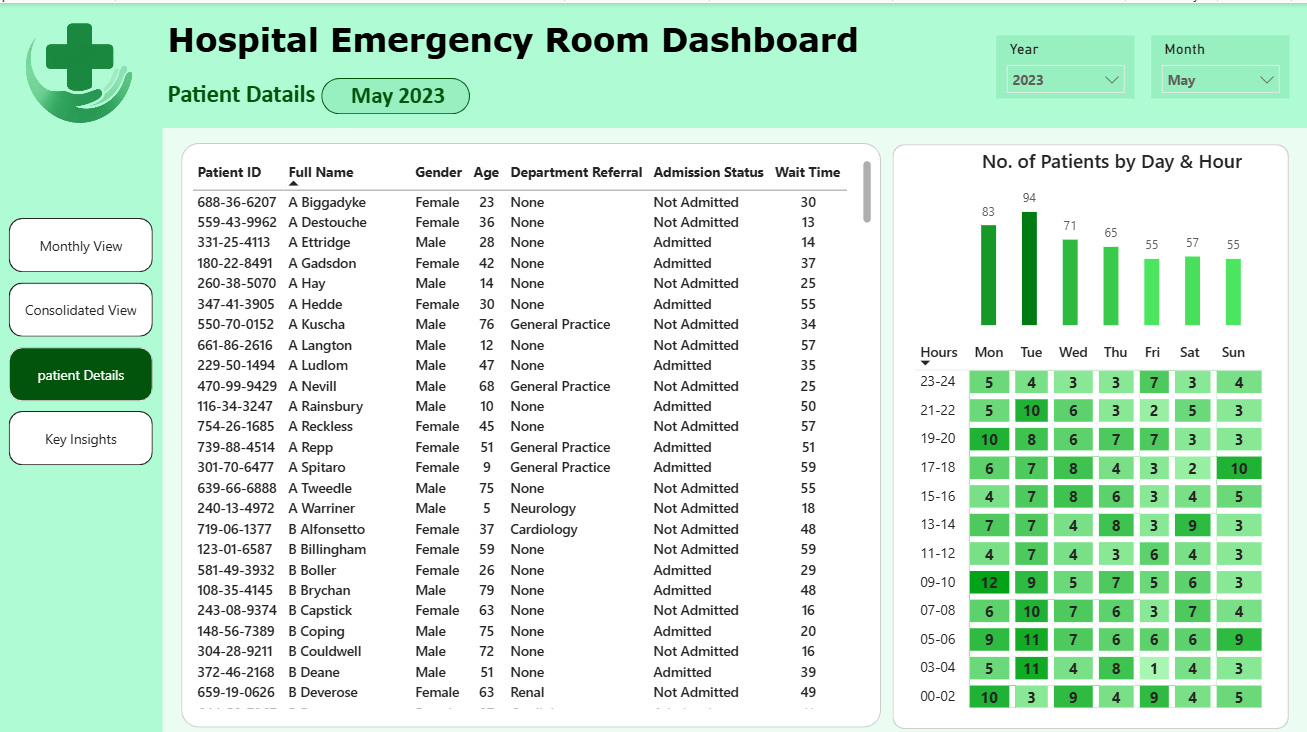

The page's visual inventory and layout, read from the dashboard file:
{"tool":"powerbi","page":{"name":"patient Details","canvas":[1280,720],"ordinal":2},"visuals":[{"type":"shape","box":[0,0,159,720.2],"z":0},{"type":"shape","box":[176.9,137.2,684.6,571.8],"z":0,"group":"g1"},{"type":"shape","box":[0,0,1280.3,122.3],"z":1000},{"type":"textbox","box":[159,11,783.8,62.4],"z":2000},{"type":"slicer","fields":{"Values":["Date Table.Year"]},"box":[975,31.3,135.6,61.3],"z":3000},{"type":"slicer","fields":{"Values":["Date Table.Month"]},"box":[1126.2,31.3,135.6,61.3],"z":4000},{"type":"textbox","box":[159,68.5,377.9,48.9],"z":5000},{"type":"shape","box":[314.3,73.4,145.5,35.5],"z":6000},{"type":"cardVisual","fields":{"Data":["Min(Date Table.month & year)"]},"box":[314.1,51.3,207.7,75.6],"z":7000},{"type":"image","box":[0,0,157.7,133.3],"z":8000},{"type":"group","id":"g1","title":"Group 1","box":[176.9,137.2,684.6,571.8],"z":9000},{"type":"group","id":"g2","title":"Group 2","box":[873.1,137.6,387.6,572.1],"z":10000},{"type":"shape","box":[873.1,137.6,387.6,572.1],"z":10000,"group":"g2"},{"type":"pageNavigator","box":[9,210.3,141,244.9],"z":11000},{"type":"pivotTable","fields":{"Rows":["Hospital ER_Data.wait time intervel"],"Columns":["Date Table.day name"],"Values":["Hospital ER_Data.No. of Patients"]},"box":[889.7,325,362.2,374.3],"z":11000,"group":"g2"},{"type":"clusteredColumnChart","title":"No. of Patients by Day & Hour","fields":{"Category":["Date Table.day name"],"Y":["Hospital ER_Data.No. of Patients"]},"box":[955.2,141.4,265.4,179.5],"z":12000,"group":"g2"},{"type":"tableEx","fields":{"Values":["Hospital ER_Data.Patient Id","Hospital ER_Data.Full Name","Hospital ER_Data.Patient Gender","Sum(Hospital ER_Data.Patient Age)","Hospital ER_Data.Department Referral","Hospital ER_Data.Admission check","Sum(Hospital ER_Data.Patient Waittime)"]},"box":[182.1,149.8,675.6,546.2],"z":13000,"group":"g1"}]}

Visuals, with their boxes in screenshot pixels (x1, y1, x2, y2), scaled from the page's 1280x720 canvas onto the 1307x732 screenshot:
shape: bbox=(0, 0, 162, 731)
shape: bbox=(181, 139, 880, 721)
shape: bbox=(0, 0, 1306, 124)
textbox: bbox=(162, 11, 963, 75)
slicer - Date Table.Year: bbox=(996, 32, 1134, 94)
slicer - Date Table.Month: bbox=(1150, 32, 1288, 94)
textbox: bbox=(162, 70, 548, 119)
shape: bbox=(321, 75, 469, 111)
cardVisual - Min(Date Table.month & year): bbox=(321, 52, 533, 129)
image: bbox=(0, 0, 161, 136)
"Group 1" group: bbox=(181, 139, 880, 721)
"Group 2" group: bbox=(892, 140, 1287, 722)
shape: bbox=(892, 140, 1287, 722)
pageNavigator: bbox=(9, 214, 153, 463)
pivotTable - Hospital ER_Data.wait time intervel x Date Table.day name: bbox=(908, 330, 1278, 711)
"No. of Patients by Day & Hour" clusteredColumnChart: bbox=(975, 144, 1246, 326)
tableEx - Hospital ER_Data.Patient Id x Hospital ER_Data.Full Name: bbox=(186, 152, 876, 708)
